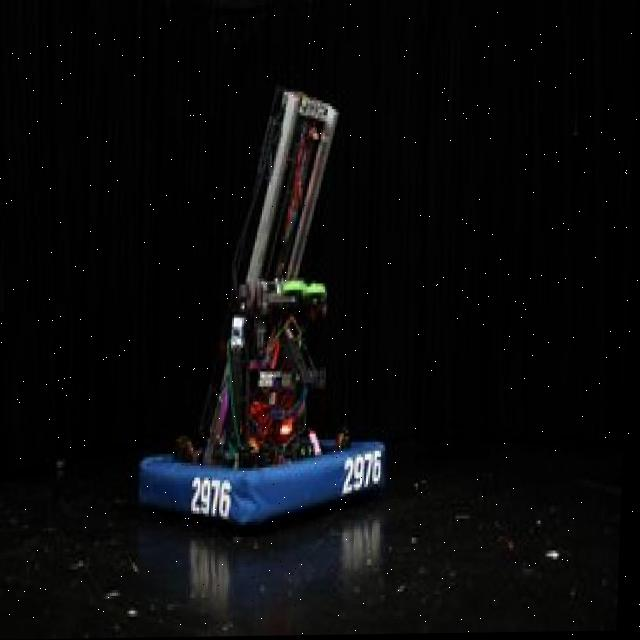robot: (133, 73, 412, 550)
